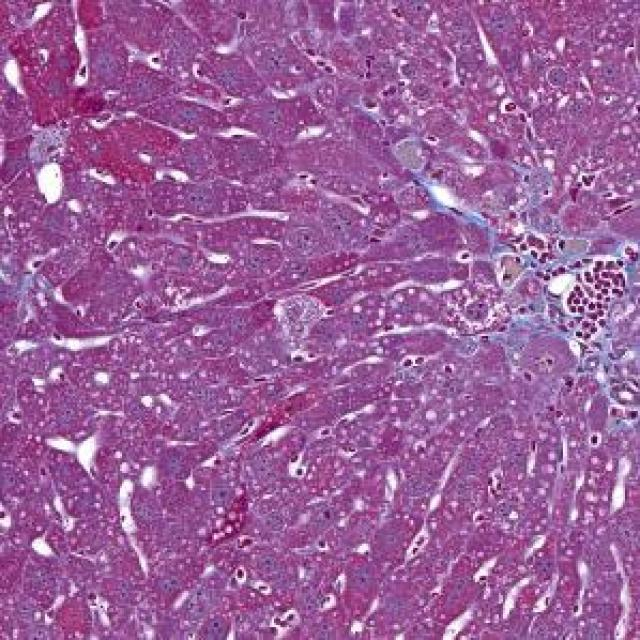fibrosis: (468, 217, 620, 356)
